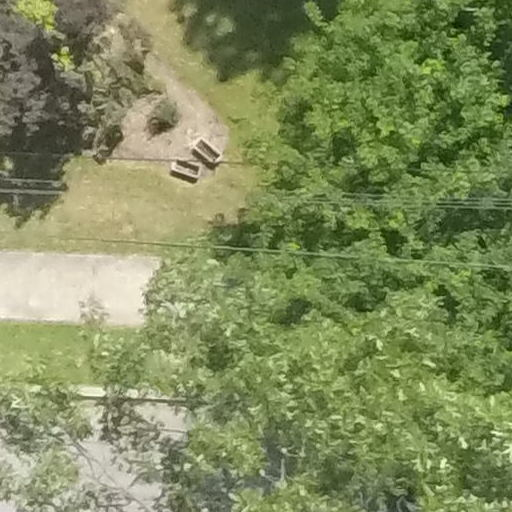container: (190, 130, 230, 172), (161, 150, 205, 188)
